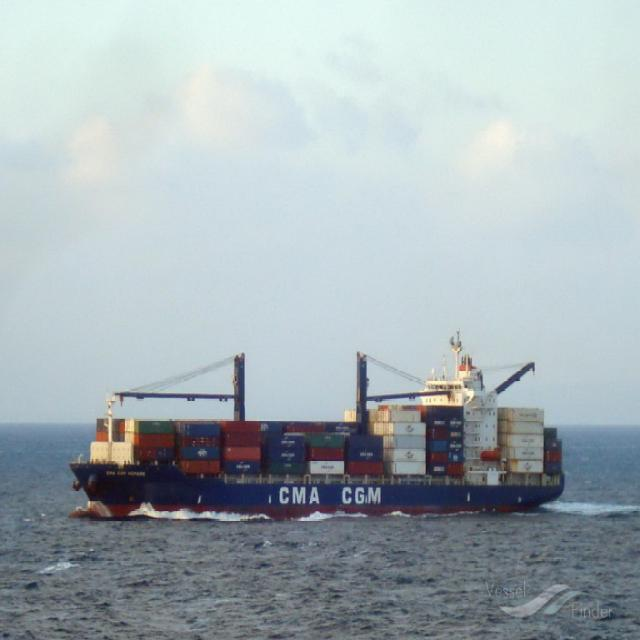Container Ship: (68, 367, 565, 512)
